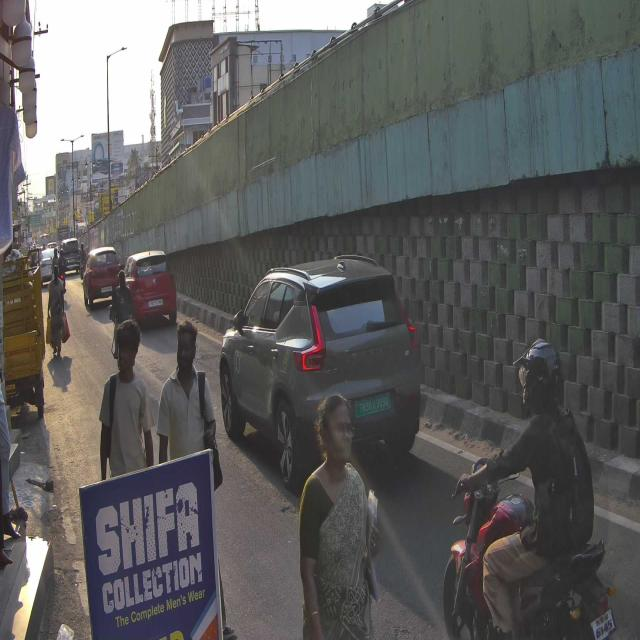single_rider: (442, 336, 617, 640)
